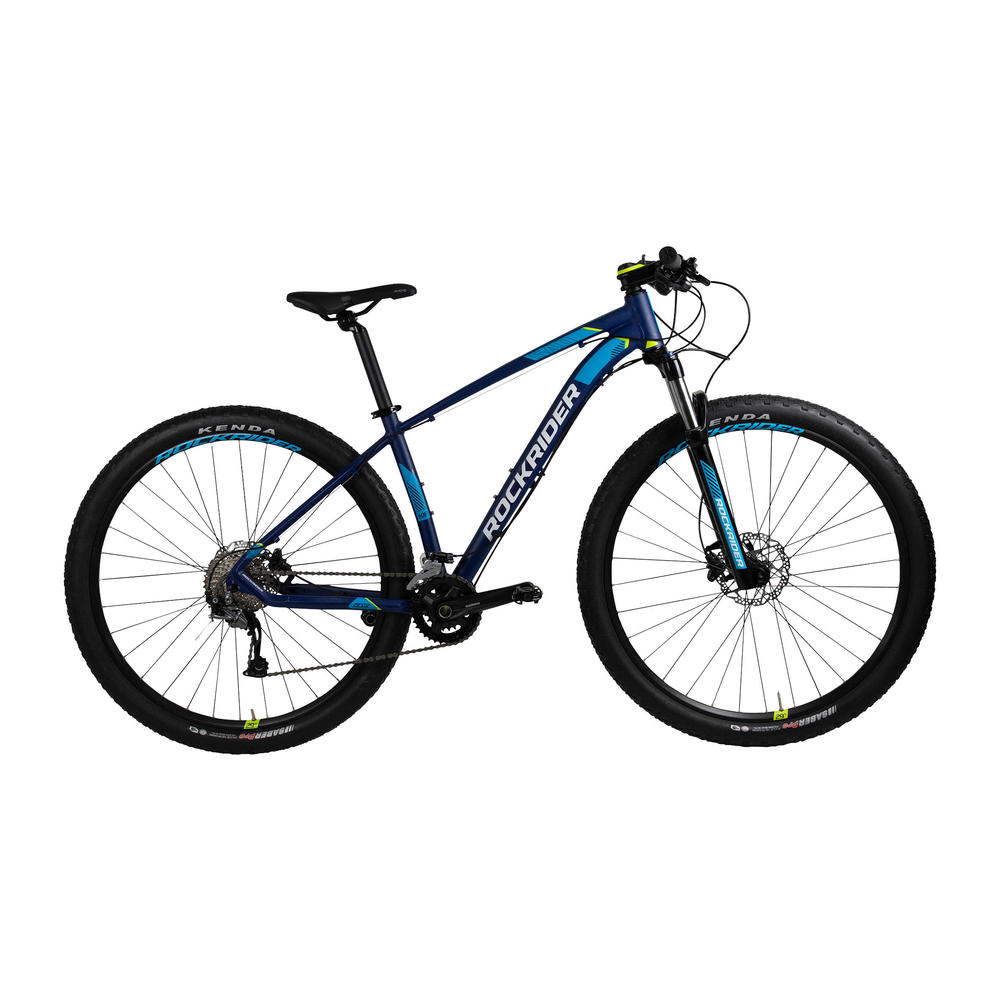RoadBike: (710, 529, 889, 696), (562, 546, 714, 689), (419, 502, 533, 610)
